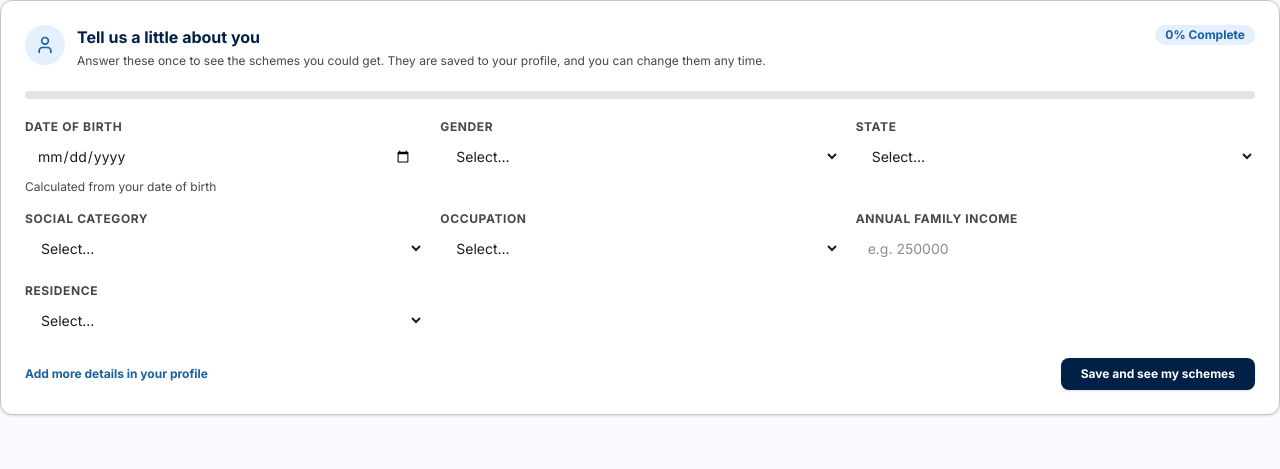
Test: QuickProfileForm: answer the missing profile questions in place › says so when nothing was answered
Click the button "Save and see my schemes". click: (1158, 374)
box: x1=1061 y1=358 x2=1255 y2=390
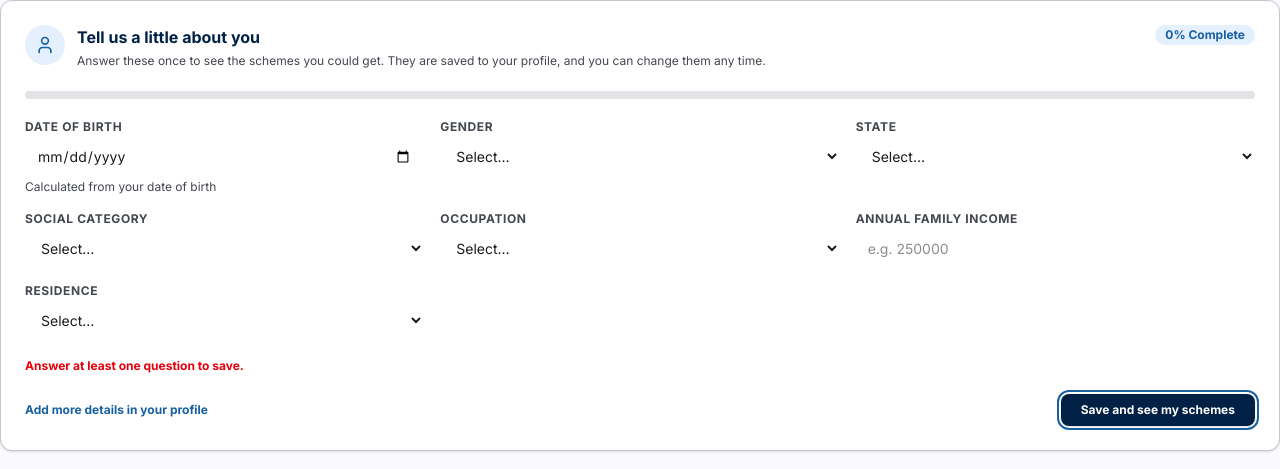
Expected: the message reads "Answer at least one question to save.", x1=25 y1=358 x2=244 y2=372
